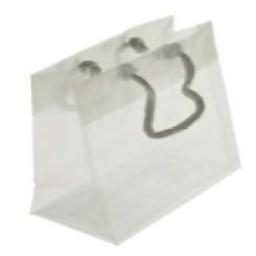Paper: (27, 15, 244, 240)
